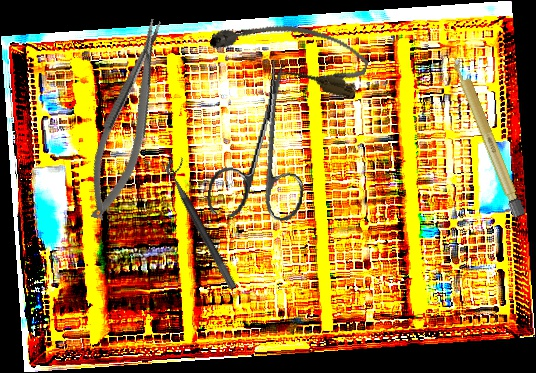Cannula: (206, 2, 373, 102)
Fixation Ring: (162, 154, 248, 291)
Iris Scissors: (204, 52, 324, 228)
Needle Holder: (74, 14, 183, 226)
Scalpel Handle: (449, 53, 527, 220)
